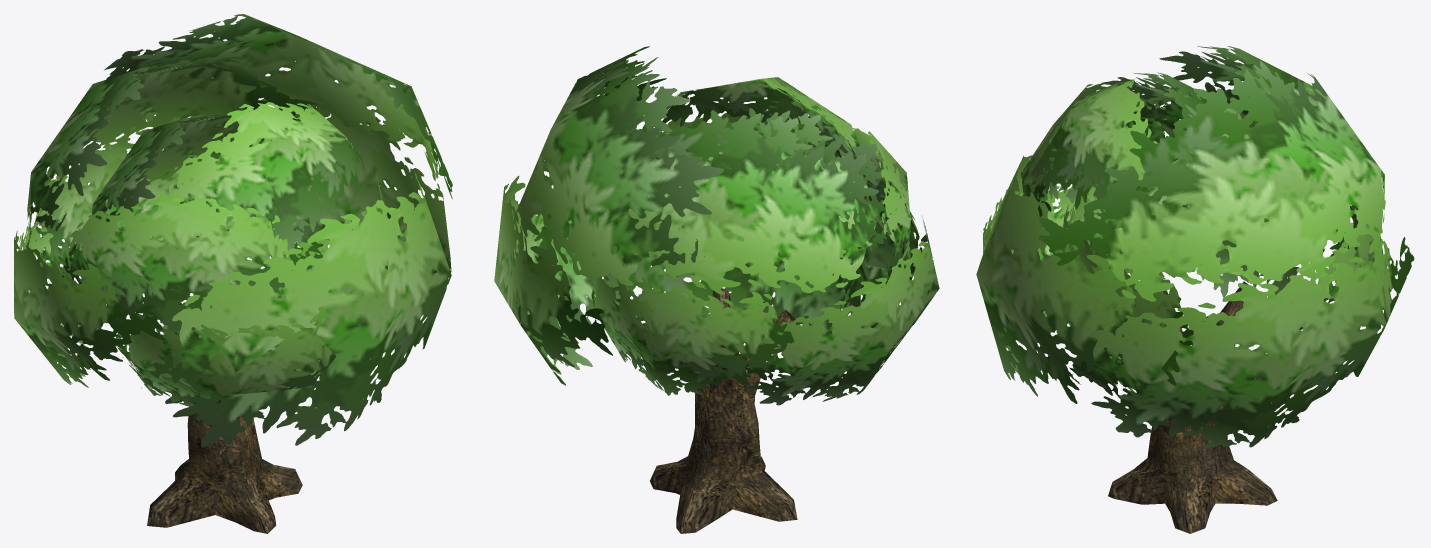
The model's file is Tree_FBX.fbx.
The picture shows the model from 3 angles, left to right: view 1: azimuth 30°, elevation 25°; view 2: azimuth 150°, elevation 25°; view 3: azimuth 270°, elevation 25°; orthographic projection. The views are drawn at different scales.
Parts seen in each view (by area): view 1: polySurface185, polySurface192, polySurface193, polySurface190, polySurface191, polySurface187, polySurface184, polySurface186, polySurface189, polySurface195, polySurface188, polySurface194; view 2: polySurface191, polySurface193, polySurface188, polySurface187, polySurface184, polySurface189, polySurface194, polySurface190, polySurface195, polySurface192, polySurface185, polySurface186; view 3: polySurface193, polySurface189, polySurface185, polySurface184, polySurface190, polySurface191, polySurface195, polySurface194, polySurface192, polySurface186, polySurface188, polySurface187.
Part boxes in pixels (<box>): polySurface185: <box>141,172,451,447</box>; polySurface192: <box>58,192,322,337</box>; polySurface193: <box>104,14,452,198</box>; polySurface190: <box>168,102,364,250</box>; polySurface191: <box>27,56,317,238</box>; polySurface187: <box>14,225,165,387</box>; polySurface184: <box>147,302,302,533</box>; polySurface186: <box>116,305,336,418</box>; polySurface189: <box>166,108,451,352</box>; polySurface195: <box>91,111,271,221</box>; polySurface188: <box>27,138,198,269</box>; polySurface194: <box>122,175,387,403</box>; polySurface191: <box>612,110,891,294</box>; polySurface193: <box>515,46,723,287</box>; polySurface188: <box>591,276,811,395</box>; polySurface187: <box>744,216,939,405</box>; polySurface184: <box>650,288,797,533</box>; polySurface189: <box>494,176,637,385</box>; polySurface194: <box>534,215,866,334</box>; polySurface190: <box>654,77,871,185</box>; polySurface195: <box>655,108,890,257</box>; polySurface192: <box>790,122,910,280</box>; polySurface185: <box>547,100,922,327</box>; polySurface186: <box>840,199,910,327</box>; polySurface193: <box>1039,61,1385,301</box>; polySurface189: <box>1063,226,1414,447</box>; polySurface185: <box>976,155,1179,403</box>; polySurface184: <box>1108,281,1277,533</box>; polySurface190: <box>1030,78,1157,219</box>; polySurface191: <box>1159,46,1336,241</box>; polySurface195: <box>1101,72,1249,163</box>; polySurface194: <box>1063,192,1221,392</box>; polySurface192: <box>1021,83,1177,216</box>; polySurface186: <box>983,186,1129,316</box>; polySurface188: <box>1299,205,1383,330</box>; polySurface187: <box>1050,122,1330,297</box>.
Size of the model in its own units: 1760 by 2045 by 1712.
